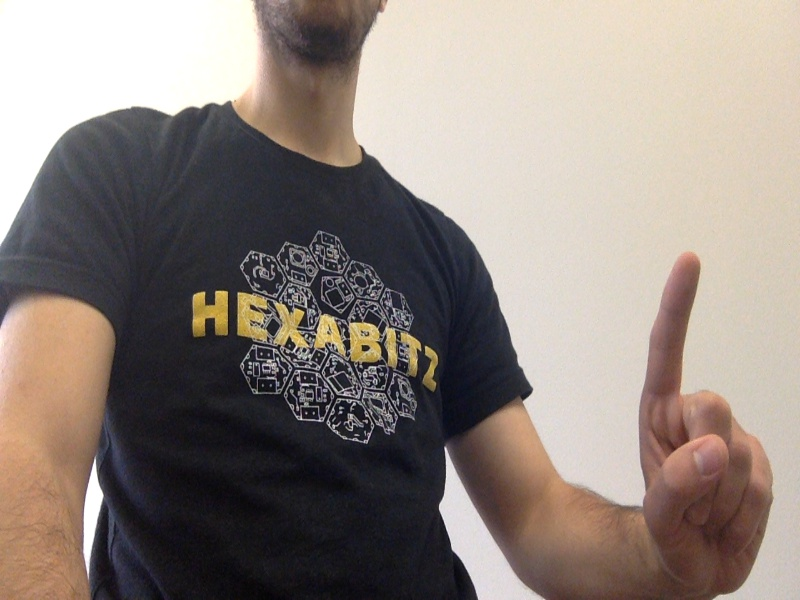1-hand: (639, 249, 772, 581)
